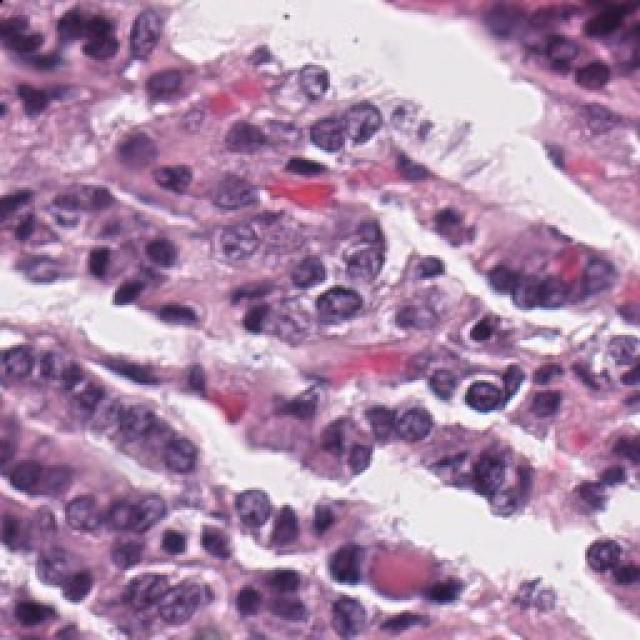abnormal: (93, 0, 178, 78), (272, 39, 342, 110), (482, 447, 539, 530), (122, 558, 183, 628), (326, 228, 386, 299), (291, 104, 350, 169), (348, 78, 399, 153), (383, 391, 441, 454), (210, 212, 265, 272), (233, 478, 278, 542), (125, 483, 170, 546), (155, 574, 206, 628), (168, 428, 209, 487)
